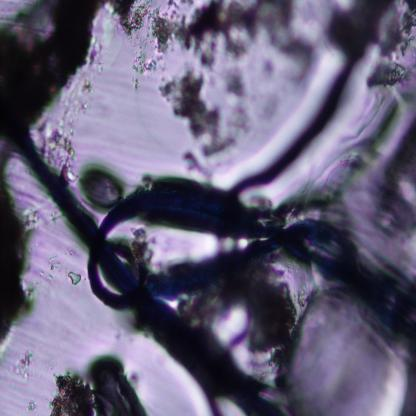Air bubble: (80, 162, 129, 210)
Background material: (0, 0, 110, 122), (151, 0, 299, 54), (297, 0, 365, 115), (160, 67, 241, 162), (48, 355, 148, 415), (0, 169, 32, 349), (365, 0, 416, 94), (43, 122, 84, 180), (123, 36, 161, 96), (270, 41, 314, 83), (111, 0, 147, 33), (38, 247, 66, 280), (12, 349, 35, 389), (63, 269, 82, 287), (24, 400, 36, 415)
Cotton: (5, 107, 416, 416)
